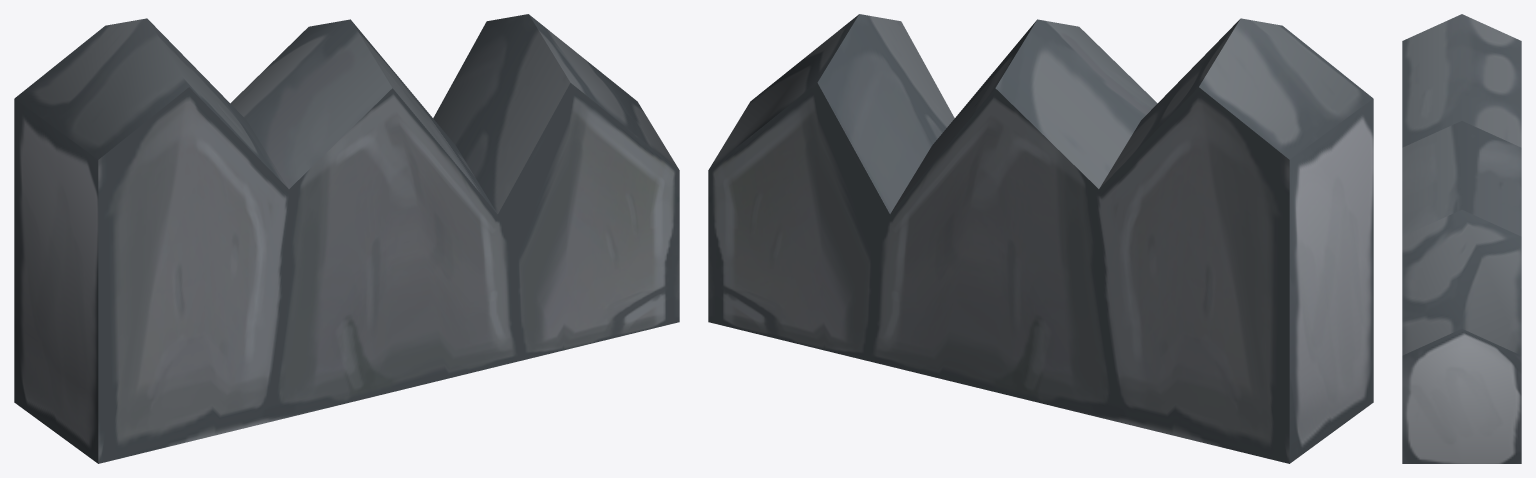
The model's file is WallBrokenSmall.001.fbx.
3 renders of one model, left to right at view 1: azimuth 30°, elevation 25°; view 2: azimuth 150°, elevation 25°; view 3: azimuth 270°, elevation 25°, orthographic. The views are drawn at different scales.
Visible parts, largest first — view 1: WallBrokenSmall.001; view 2: WallBrokenSmall.001; view 3: WallBrokenSmall.001.
Boxes of the visible parts, <box> form: WallBrokenSmall.001: <box>14,14,679,463</box>; WallBrokenSmall.001: <box>708,14,1373,463</box>; WallBrokenSmall.001: <box>1402,14,1521,463</box>.
Size of the model in its own units: 200 by 129 by 50.
